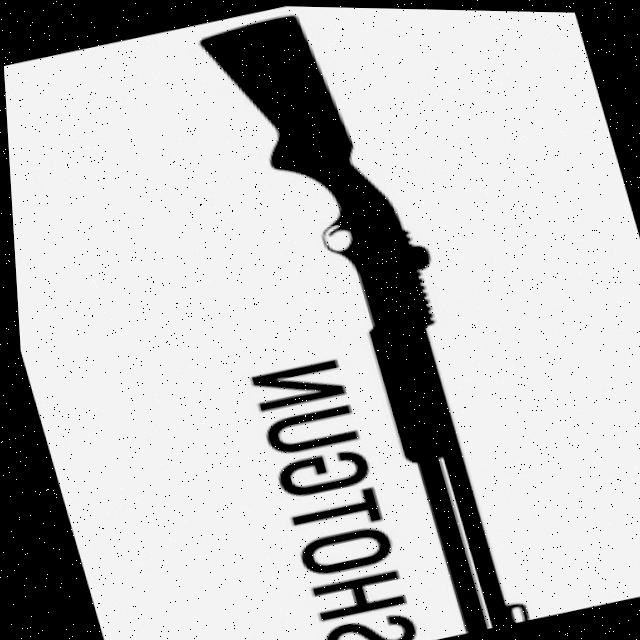firearm: (195, 3, 525, 640)
